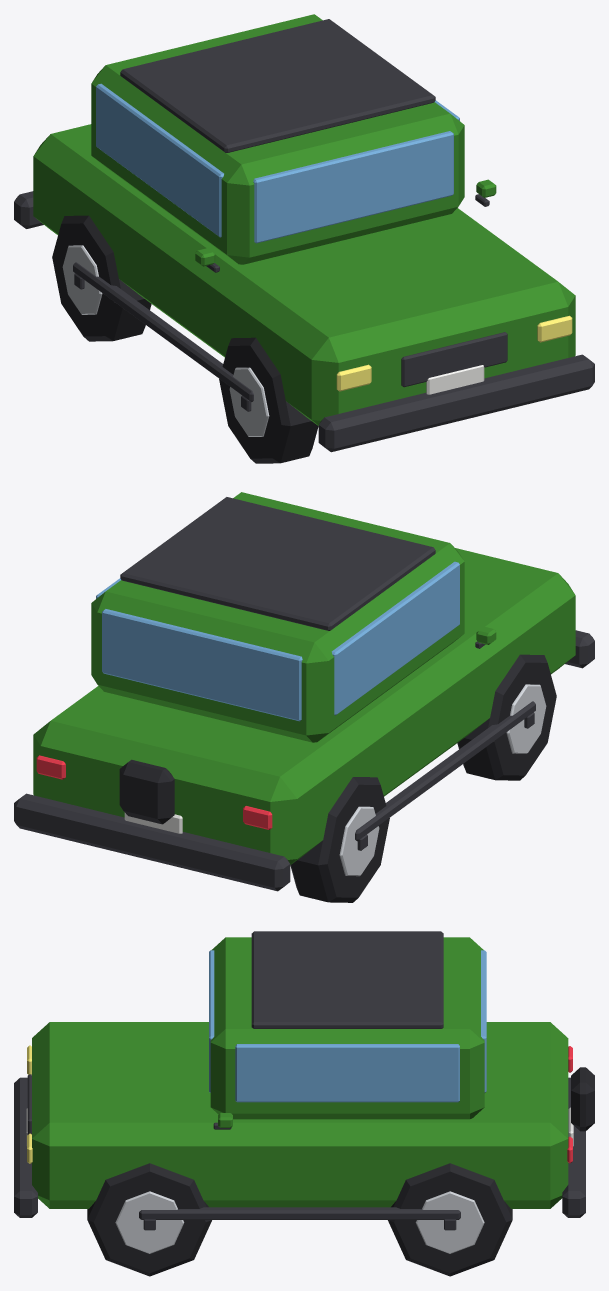
The model's file is Jeep.fbx.
3 renders of one model, top to bottom at view 1: azimuth 30°, elevation 25°; view 2: azimuth 150°, elevation 25°; view 3: azimuth 270°, elevation 25°, orthographic. The views are drawn at different scales.
Parts seen in each view (by area): view 1: Jeep, Jeep_WheelFR, Jeep_WheelBR; view 2: Jeep, Jeep_WheelBR, Jeep_WheelFR; view 3: Jeep, Jeep_WheelFL, Jeep_WheelBL.
Boxes of the visible parts, left/top/right/bottom form: Jeep: left=14, top=14, right=594, bottom=452; Jeep_WheelFR: left=219, top=337, right=318, bottom=463; Jeep_WheelBR: left=52, top=215, right=151, bottom=341; Jeep: left=14, top=492, right=594, bottom=891; Jeep_WheelBR: left=290, top=777, right=389, bottom=902; Jeep_WheelFR: left=457, top=654, right=556, bottom=780; Jeep: left=14, top=931, right=594, bottom=1219; Jeep_WheelFL: left=87, top=1163, right=211, bottom=1276; Jeep_WheelBL: left=388, top=1163, right=512, bottom=1276.
Size of the model in its own units: 5.15 by 4.48 by 9.75.
1 material, 1 textured.
